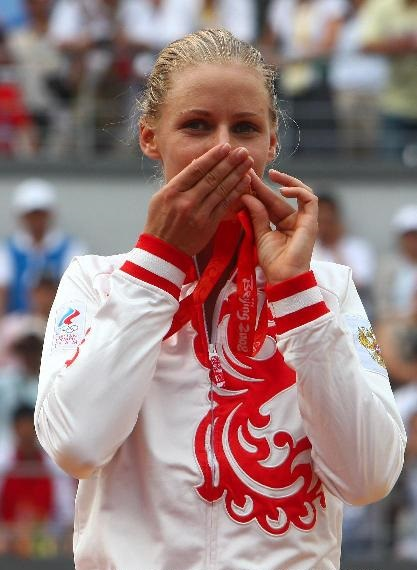face: (160, 67, 271, 222)
